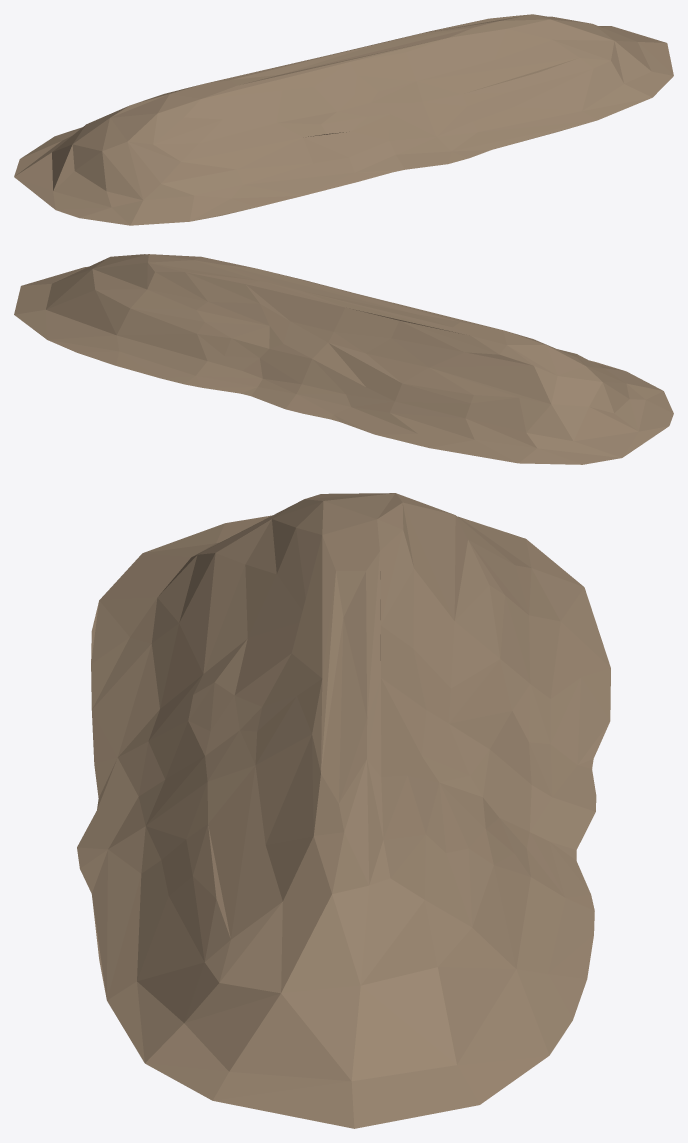
Rendered from SM_Prop_Barrier_Base_Dirt_01.fbx.
3 views of the same model, one above another, from view 1: azimuth 30°, elevation 25°; view 2: azimuth 150°, elevation 25°; view 3: azimuth 270°, elevation 25° (orthographic). The views are drawn at different scales.
Visible parts, largest first — view 1: SM_Prop_Barrier_Base_Dirt_01; view 2: SM_Prop_Barrier_Base_Dirt_01; view 3: SM_Prop_Barrier_Base_Dirt_01.
Boxes of the visible parts, x1,y1,x2,y2 form: SM_Prop_Barrier_Base_Dirt_01: (14,14,673,225); SM_Prop_Barrier_Base_Dirt_01: (14,254,673,464); SM_Prop_Barrier_Base_Dirt_01: (77,493,610,1128).
Size of the model in its own units: 656 by 66.37 by 241.
